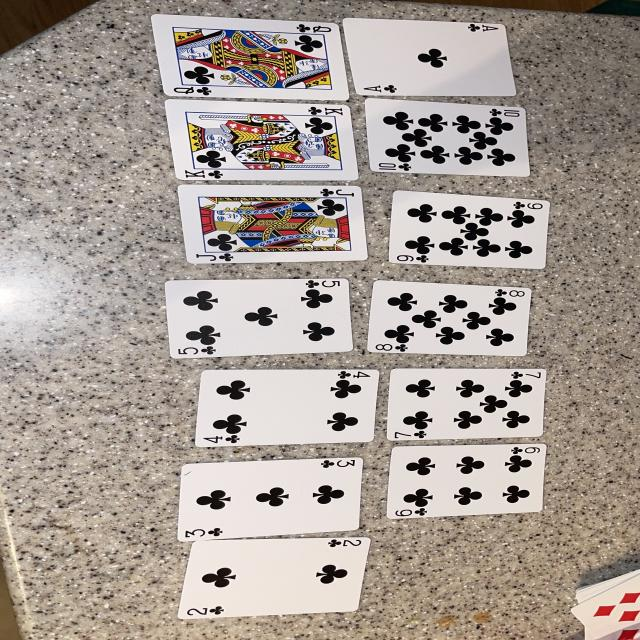10 of clubs: (364, 99, 529, 176)
2 of clubs: (178, 538, 371, 619)
3 of clubs: (178, 458, 362, 541)
4 of clubs: (196, 370, 380, 448)
5 of clubs: (164, 279, 353, 359)
6 of clubs: (387, 444, 547, 519)
7 of clubs: (387, 369, 547, 440)
8 of clubs: (367, 280, 531, 356)
9 of clubs: (389, 191, 551, 269)
Ace of clubs: (342, 19, 516, 96)
Jack of clubs: (178, 185, 367, 264)
King of clubs: (164, 99, 358, 181)
Queen of clubs: (151, 15, 349, 100)
